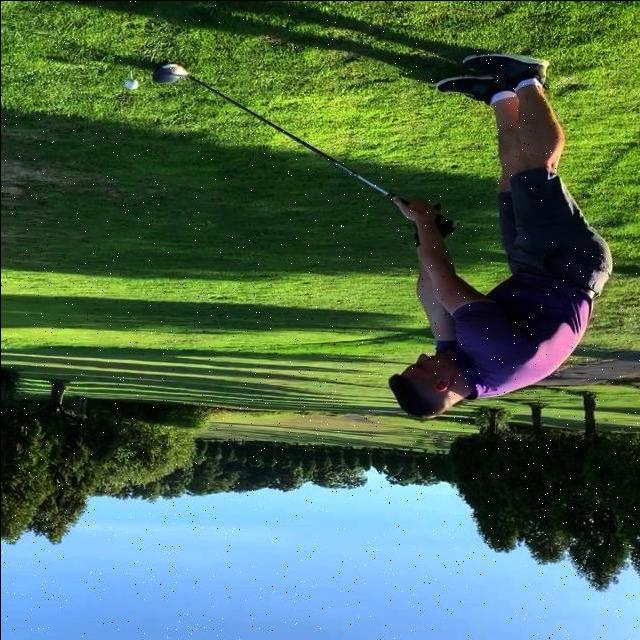golf ball: (124, 78, 138, 88)
golf club-handle: (152, 61, 450, 233)
golf club-head: (152, 61, 189, 82)
